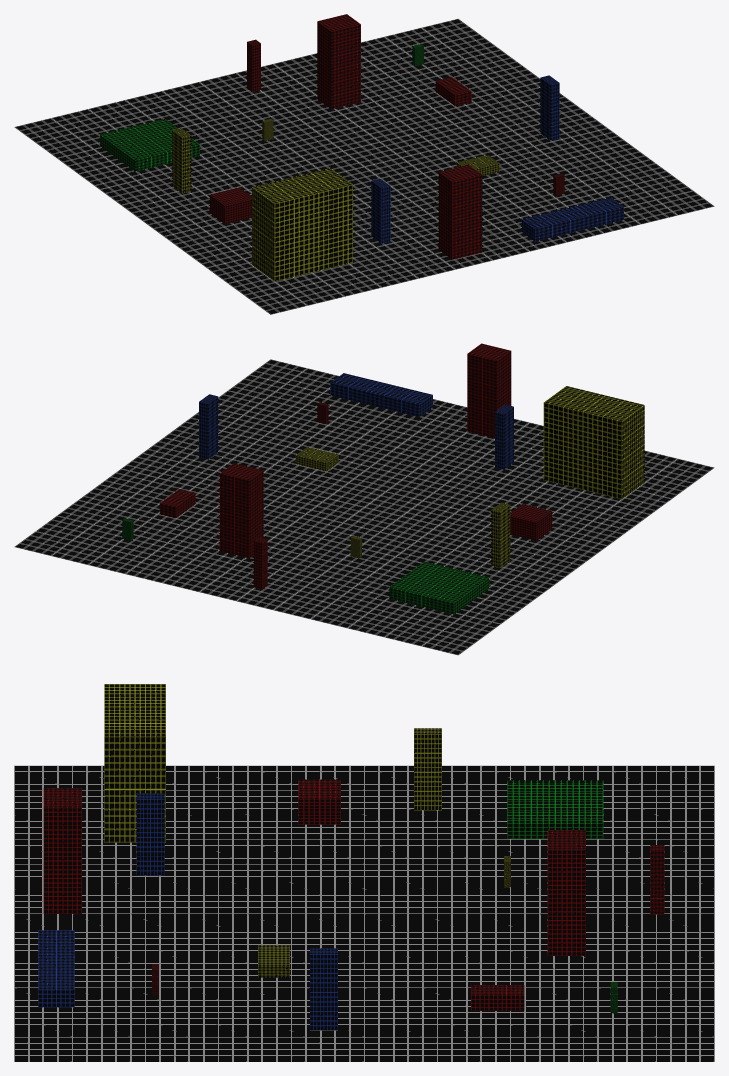
The model's file is menu_cal.FBX.
3 renders of one model, top to bottom at view 1: azimuth 30°, elevation 25°; view 2: azimuth 150°, elevation 25°; view 3: azimuth 270°, elevation 25°, orthographic. The views are drawn at different scales.
Visible parts, largest first — view 1: Plane001, Box015, Box016, Box013, Box010, Box014, Box011, Box006, Box005, Box004, Box012, Box002 (+1 smaller); view 2: Plane001, Box015, Box013, Box016, Box010, Box014, Box011, Box006, Box004, Box005, Box009, Box002 (+1 smaller); view 3: Plane001, Box015, Box010, Box013, Box016, Box014, Box005, Box004, Box006, Box011, Box012, Box009 (+1 smaller).
Boxes of the visible parts, x1=… form: Plane001: x1=14, y1=18, x2=714, y2=314; Box015: x1=252, y1=168, x2=352, y2=281; Box016: x1=438, y1=164, x2=482, y2=259; Box013: x1=317, y1=14, x2=360, y2=109; Box010: x1=100, y1=119, x2=199, y2=171; Box014: x1=521, y1=197, x2=623, y2=241; Box011: x1=209, y1=187, x2=251, y2=224; Box006: x1=540, y1=75, x2=559, y2=140; Box005: x1=371, y1=178, x2=390, y2=243; Box004: x1=172, y1=128, x2=191, y2=193; Box012: x1=435, y1=77, x2=471, y2=106; Box002: x1=247, y1=39, x2=260, y2=91; Plane001: x1=14, y1=359, x2=714, y2=655; Box015: x1=543, y1=386, x2=644, y2=499; Box013: x1=219, y1=463, x2=263, y2=558; Box016: x1=467, y1=343, x2=511, y2=438; Box010: x1=389, y1=561, x2=489, y2=614; Box014: x1=330, y1=373, x2=432, y2=416; Box011: x1=510, y1=504, x2=552, y2=540; Box006: x1=199, y1=394, x2=218, y2=459; Box004: x1=491, y1=502, x2=510, y2=567; Box005: x1=495, y1=404, x2=513, y2=469; Box009: x1=295, y1=447, x2=338, y2=471; Box002: x1=253, y1=537, x2=267, y2=589; Plane001: x1=14, y1=765, x2=714, y2=1061; Box015: x1=104, y1=684, x2=165, y2=842; Box010: x1=507, y1=780, x2=603, y2=838; Box013: x1=547, y1=830, x2=585, y2=955; Box016: x1=43, y1=788, x2=81, y2=913; Box014: x1=38, y1=930, x2=74, y2=1007; Box005: x1=136, y1=793, x2=164, y2=875; Box004: x1=414, y1=728, x2=441, y2=810; Box006: x1=310, y1=948, x2=337, y2=1030; Box011: x1=298, y1=779, x2=340, y2=824; Box012: x1=471, y1=985, x2=524, y2=1010; Box009: x1=258, y1=945, x2=289, y2=977.
Size of the model in its own units: 50 by 8.36 by 50.
